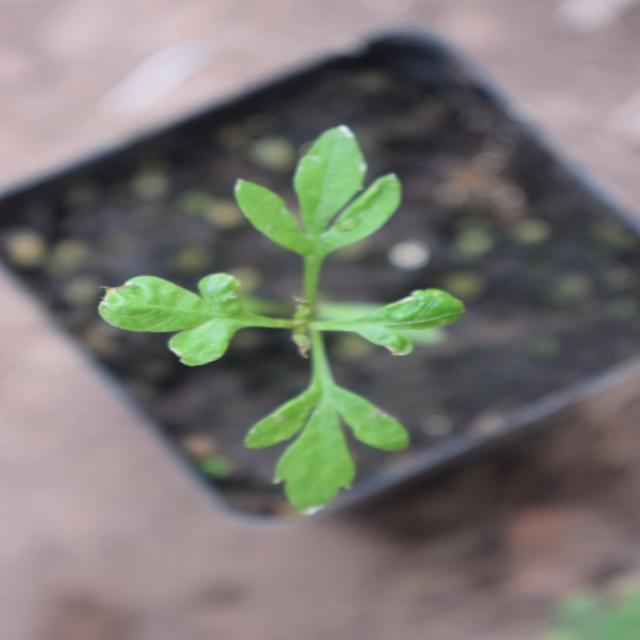Bidens pilosa: (132, 92, 500, 461)
